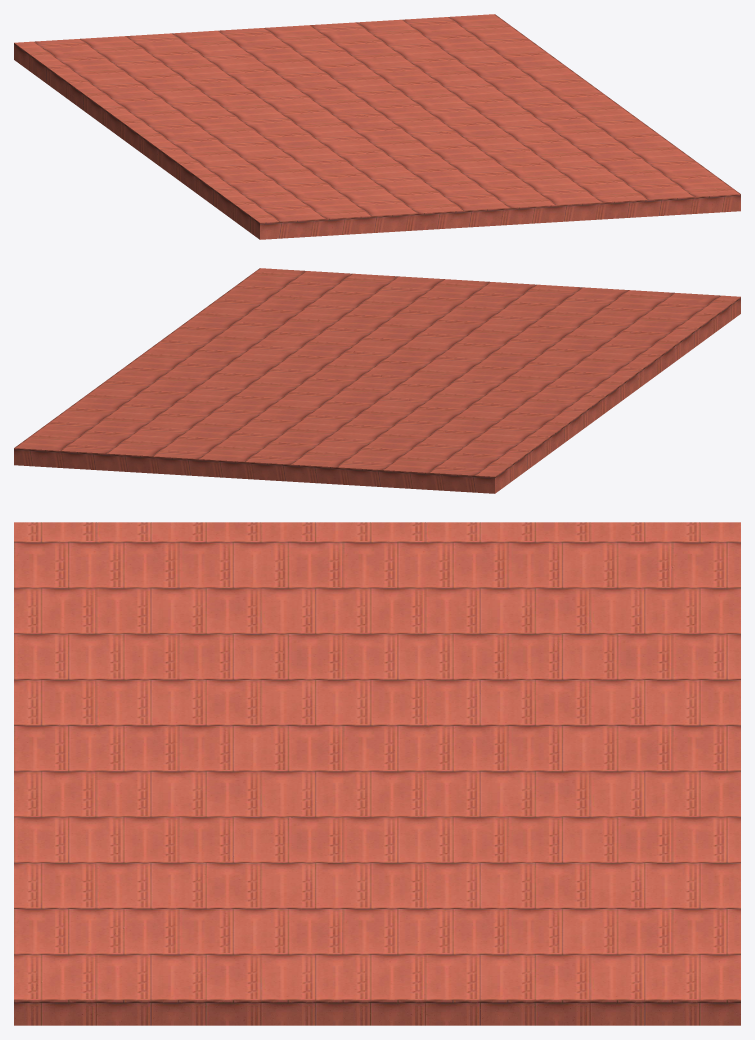
The model's file is Joglo_part_366.fbx.
3 views of the same model, one above another, from view 1: azimuth 30°, elevation 25°; view 2: azimuth 150°, elevation 25°; view 3: azimuth 270°, elevation 25° (orthographic). The views are drawn at different scales.
Visible parts, largest first — view 1: Mesh413_Roof_Tiles___French_Red_0.001; view 2: Mesh413_Roof_Tiles___French_Red_0.001; view 3: Mesh413_Roof_Tiles___French_Red_0.001.
Part boxes in pixels (<box>): Mesh413_Roof_Tiles___French_Red_0.001: <box>14,14,740,239</box>; Mesh413_Roof_Tiles___French_Red_0.001: <box>14,268,740,493</box>; Mesh413_Roof_Tiles___French_Red_0.001: <box>14,522,740,1025</box>.
Size of the model in its own units: 118 by 24.77 by 104.
